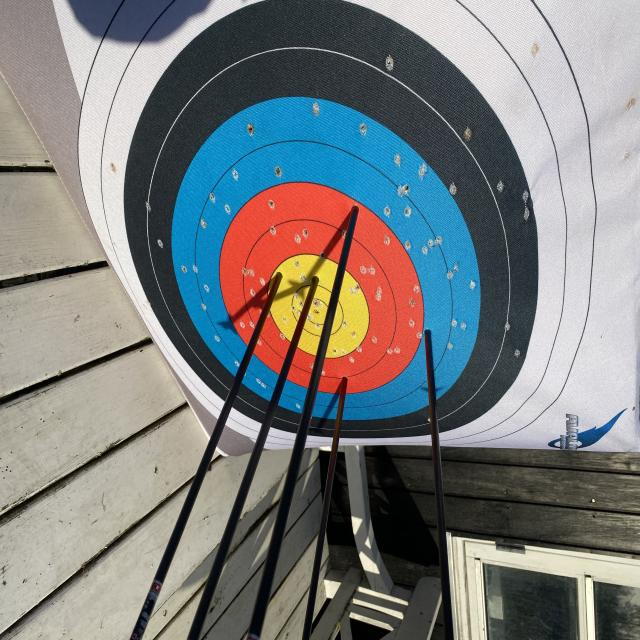Arrow_Blue: (420, 320, 438, 356)
Arrow_Red: (341, 200, 369, 226), (332, 367, 352, 393)
Arrow_Yellow: (260, 246, 292, 294), (306, 269, 326, 295)
